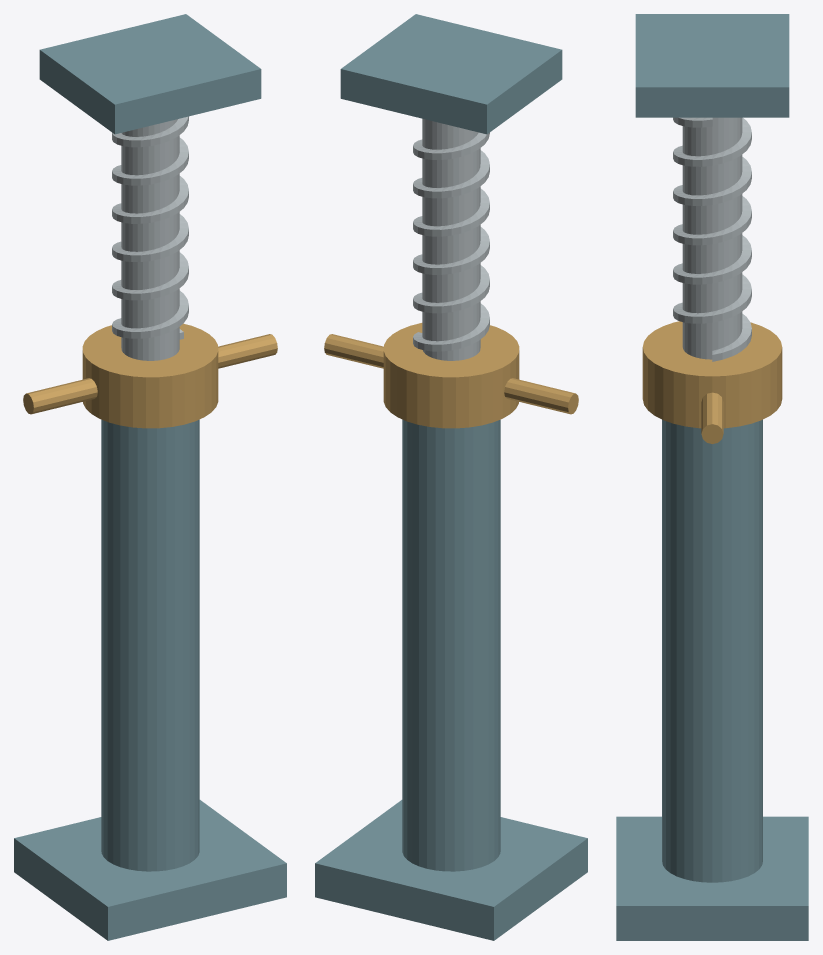
3 views of the same model, side by side, from view 1: azimuth 30°, elevation 25°; view 2: azimuth 150°, elevation 25°; view 3: azimuth 270°, elevation 25° (orthographic). The views are drawn at different scales.
Visible parts, largest first — view 1: WholeOpenBoredLowerPropTube, WholeGroundBearingPlate, WholeFlatRoofBearingHead, WholeFixedAdjustmentCollar, WholeFixedUpperScrewSpindle, WholeContinuousSixTurnThreadAppearance, WholeFixedCollarHandle_-1, WholeFixedCollarHandle_1; view 2: WholeOpenBoredLowerPropTube, WholeGroundBearingPlate, WholeFlatRoofBearingHead, WholeFixedAdjustmentCollar, WholeFixedUpperScrewSpindle, WholeContinuousSixTurnThreadAppearance, WholeFixedCollarHandle_-1, WholeFixedCollarHandle_1; view 3: WholeOpenBoredLowerPropTube, WholeGroundBearingPlate, WholeFlatRoofBearingHead, WholeFixedAdjustmentCollar, WholeFixedUpperScrewSpindle, WholeContinuousSixTurnThreadAppearance, WholeFixedCollarHandle_1.
Part boxes in pixels (<box>): WholeOpenBoredLowerPropTube: <box>101,419,199,871</box>; WholeGroundBearingPlate: <box>14,800,286,940</box>; WholeFlatRoofBearingHead: <box>39,14,261,134</box>; WholeFixedAdjustmentCollar: <box>82,323,218,428</box>; WholeFixedUpperScrewSpindle: <box>121,119,179,360</box>; WholeContinuousSixTurnThreadAppearance: <box>112,116,188,339</box>; WholeFixedCollarHandle_-1: <box>23,378,97,414</box>; WholeFixedCollarHandle_1: <box>218,334,277,368</box>; WholeOpenBoredLowerPropTube: <box>402,419,500,871</box>; WholeGroundBearingPlate: <box>315,800,587,940</box>; WholeFlatRoofBearingHead: <box>340,14,562,134</box>; WholeFixedAdjustmentCollar: <box>383,323,519,428</box>; WholeFixedUpperScrewSpindle: <box>422,118,480,360</box>; WholeContinuousSixTurnThreadAppearance: <box>413,132,489,351</box>; WholeFixedCollarHandle_-1: <box>504,378,578,414</box>; WholeFixedCollarHandle_1: <box>324,334,383,368</box>; WholeOpenBoredLowerPropTube: <box>662,419,762,882</box>; WholeGroundBearingPlate: <box>616,816,808,940</box>; WholeFlatRoofBearingHead: <box>635,14,789,117</box>; WholeFixedAdjustmentCollar: <box>642,321,782,428</box>; WholeFixedUpperScrewSpindle: <box>682,117,742,359</box>; WholeContinuousSixTurnThreadAppearance: <box>673,117,751,361</box>; WholeFixedCollarHandle_1: <box>701,392,723,443</box>.
Bounding box in the file's own units: 0.6 × 1.94 × 0.4.
